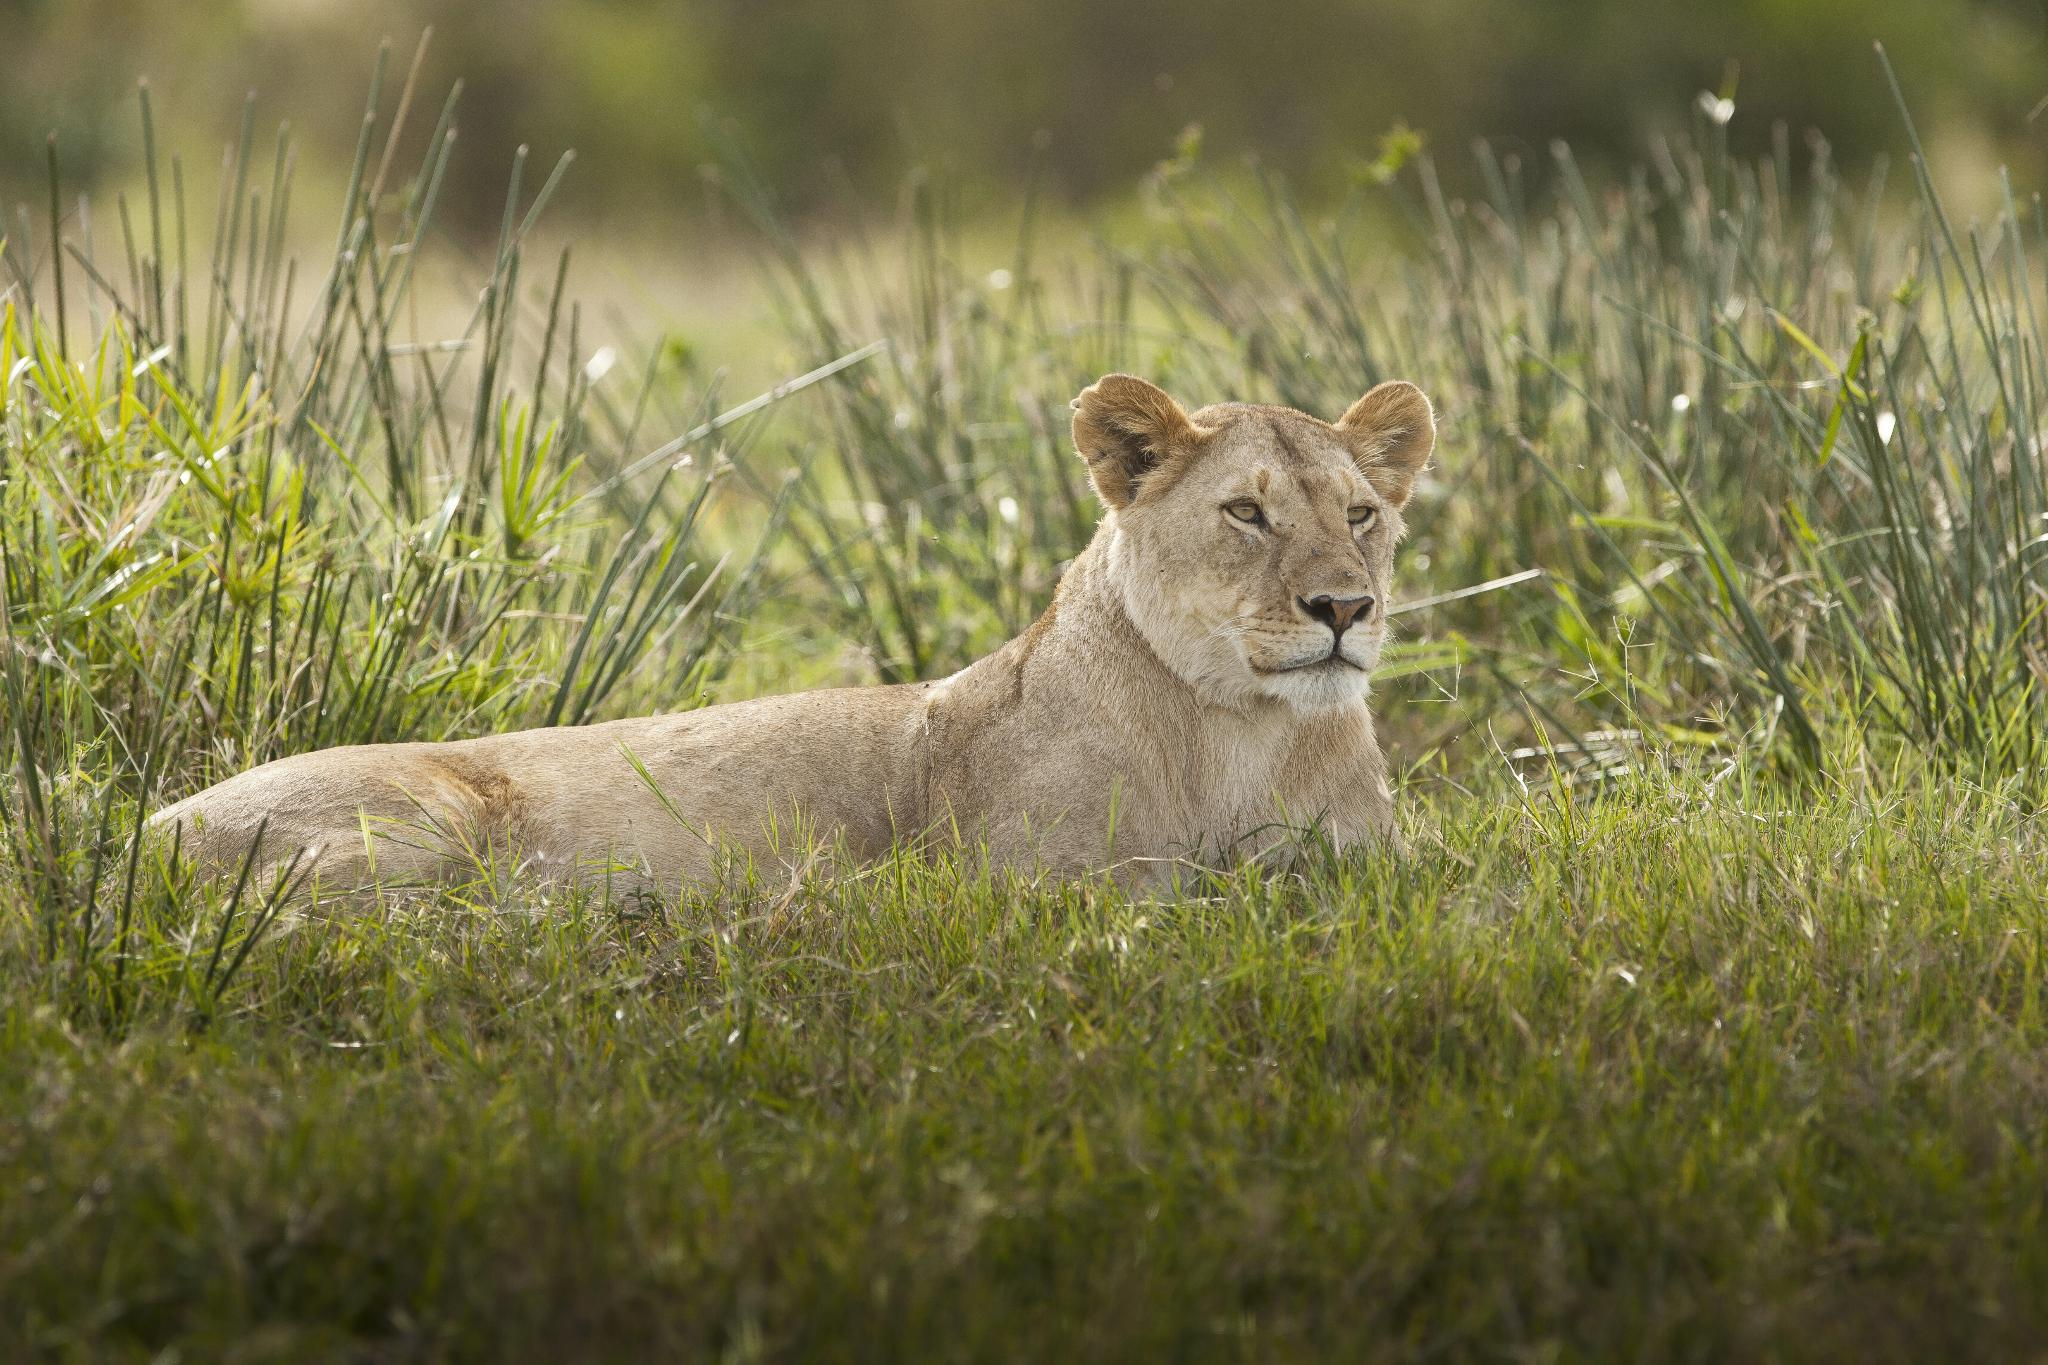lioness: (125, 369, 1451, 987)
